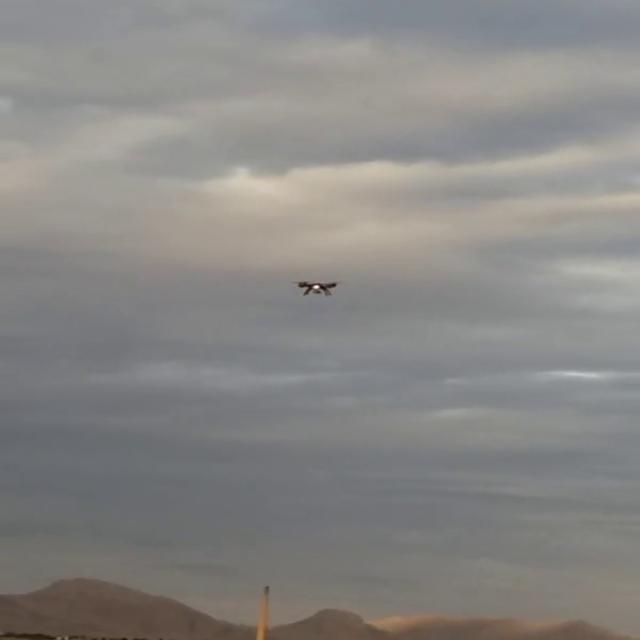drone: (289, 276, 344, 298)
